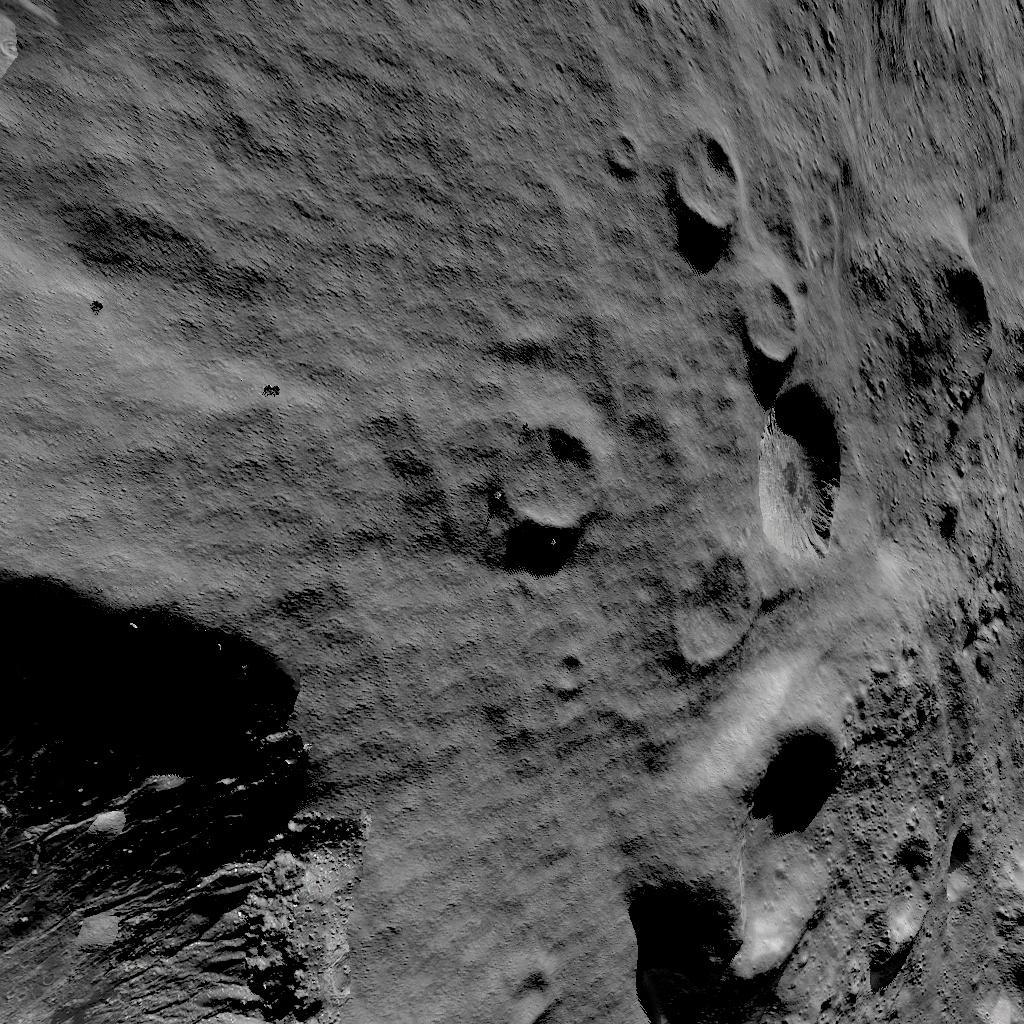Crater: (0, 556, 359, 1024), (639, 698, 836, 1002), (652, 376, 840, 662), (859, 814, 957, 970), (467, 420, 599, 530), (899, 258, 978, 417), (651, 136, 744, 249), (721, 278, 794, 362), (491, 962, 562, 1024), (971, 948, 1024, 1024), (535, 648, 589, 702)
Plan surface: (0, 0, 453, 537), (769, 2, 1024, 242)
